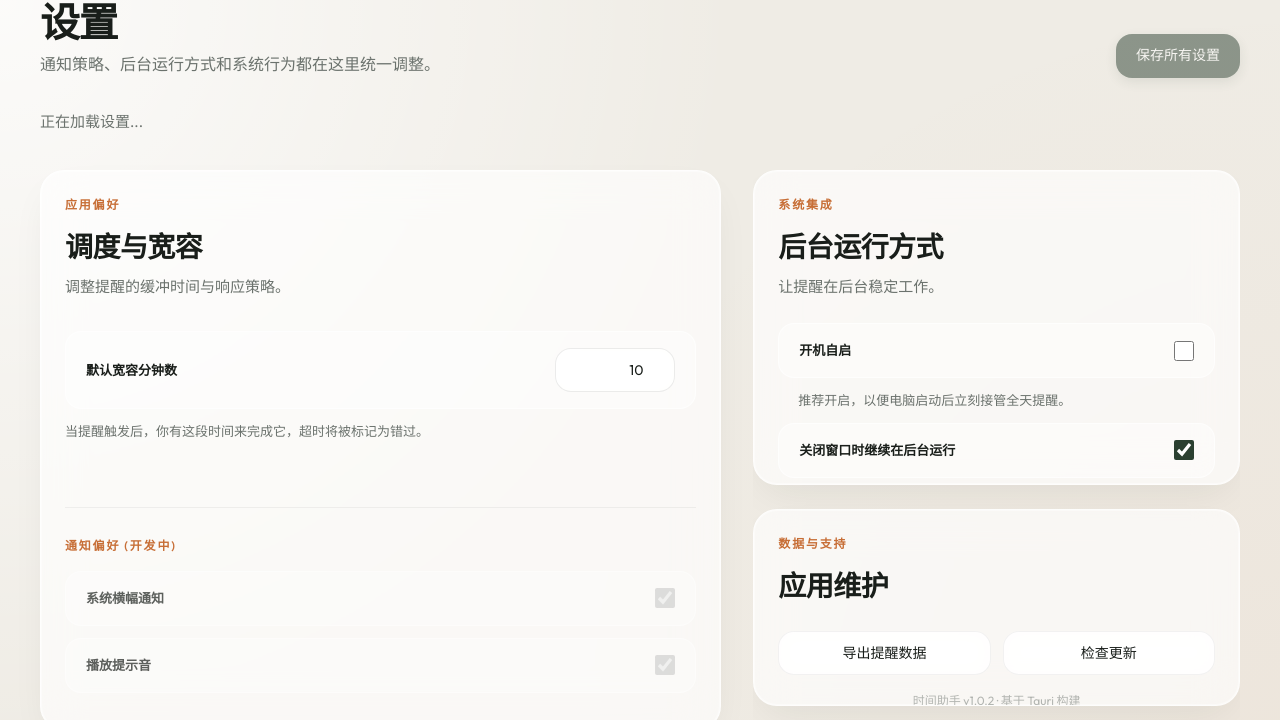
Test case: SettingsPage › shows visible error when settings save fails
Replace the text in the number field named "默认宽容时间" with "12" at (615, 370), box left=555, top=348, right=675, bottom=392
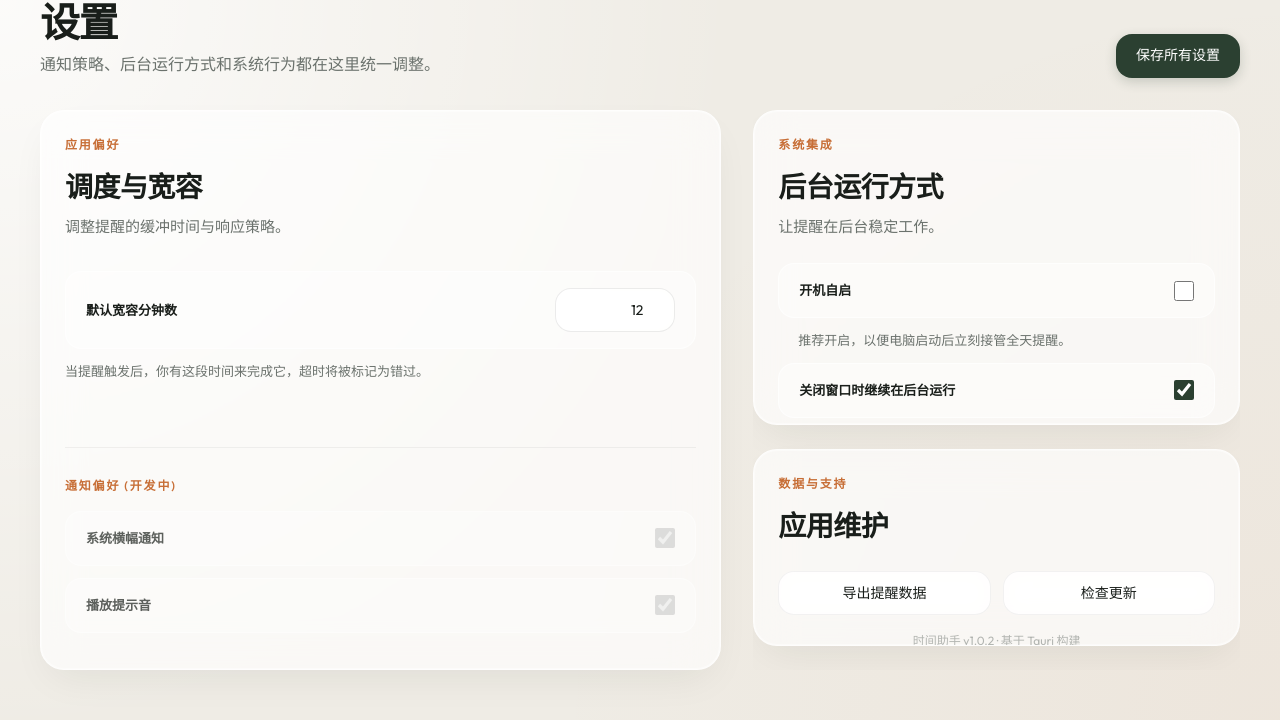
Click the button "保存所有设置" at (1178, 56), box left=1116, top=34, right=1240, bottom=78
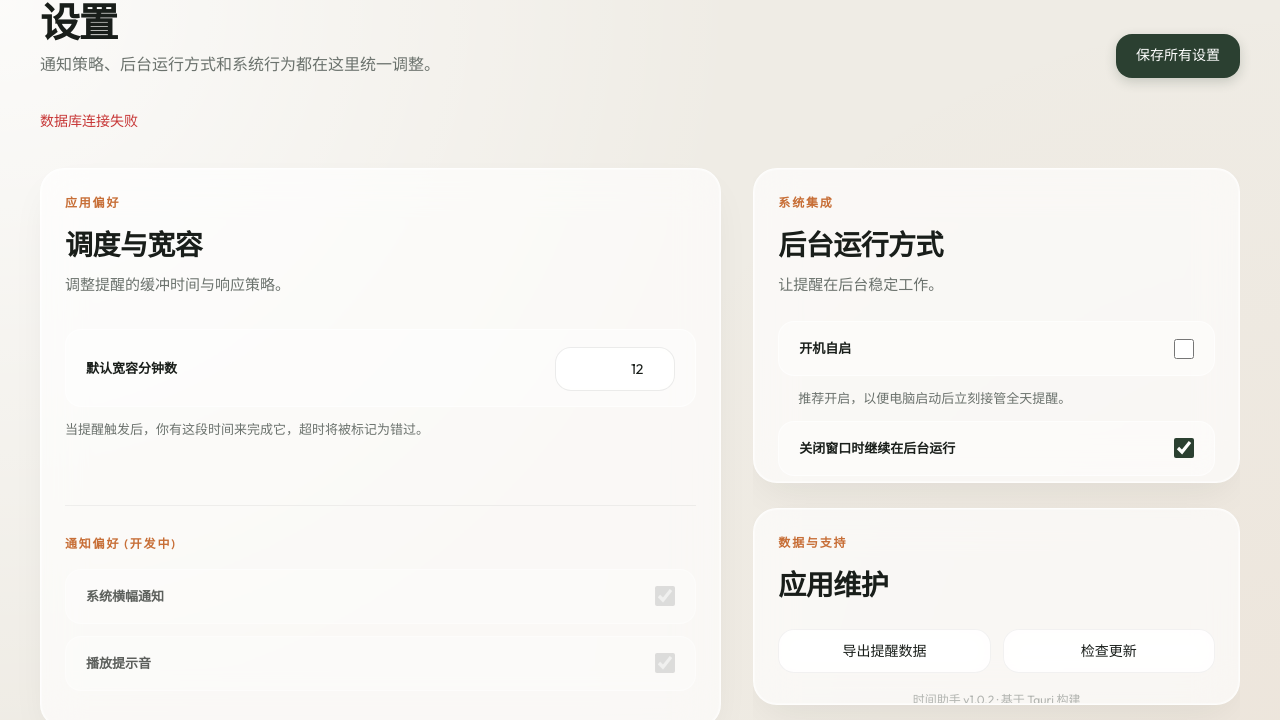
Result: the text "数据库连接失败" is shown at left=40, top=112, right=138, bottom=130
